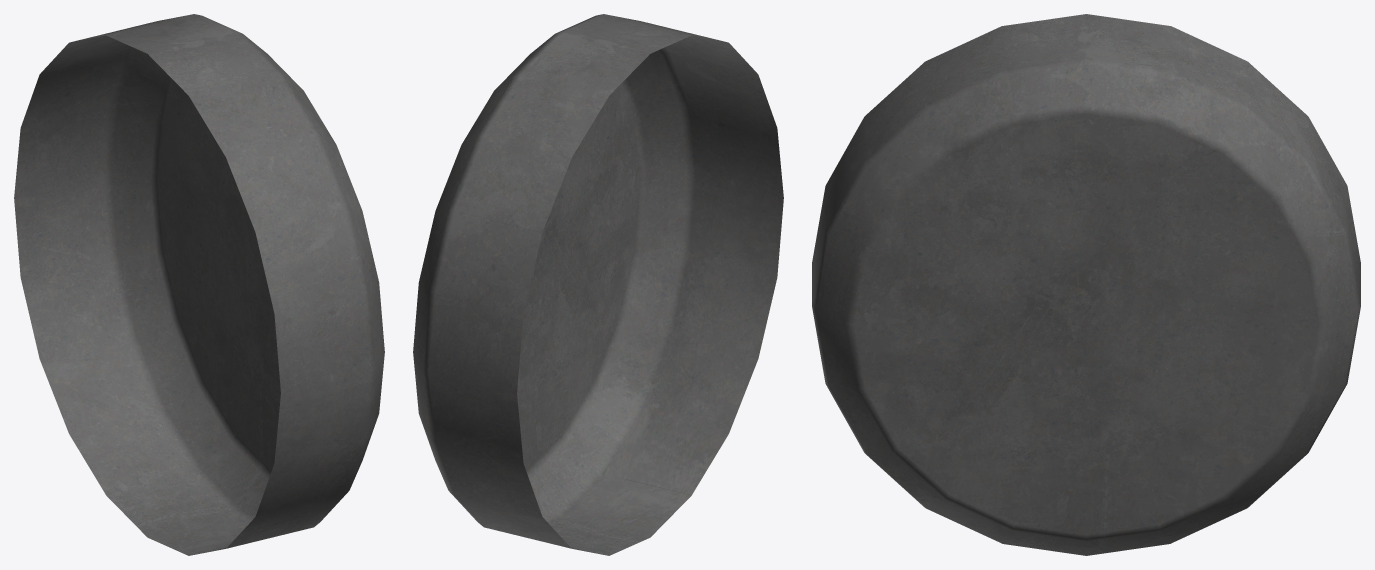
The model's file is cP_SmallCementBase01.dae.
3 renders of one model, left to right at view 1: azimuth 30°, elevation 25°; view 2: azimuth 150°, elevation 25°; view 3: azimuth 270°, elevation 25°, orthographic. The views are drawn at different scales.
Visible parts, largest first — view 1: cP_SmallCementBase01.001; view 2: cP_SmallCementBase01.001; view 3: cP_SmallCementBase01.001.
Boxes of the visible parts, <box> form: cP_SmallCementBase01.001: <box>14,14,384,555</box>; cP_SmallCementBase01.001: <box>413,14,783,555</box>; cP_SmallCementBase01.001: <box>812,14,1360,555</box>.
Bounding box in the file's own units: 0.1275 × 0.4783 × 0.4783.
